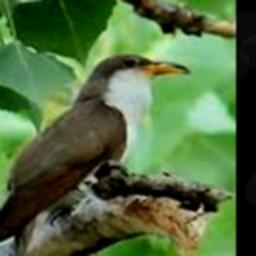Cuckoo: (0, 54, 192, 256)
